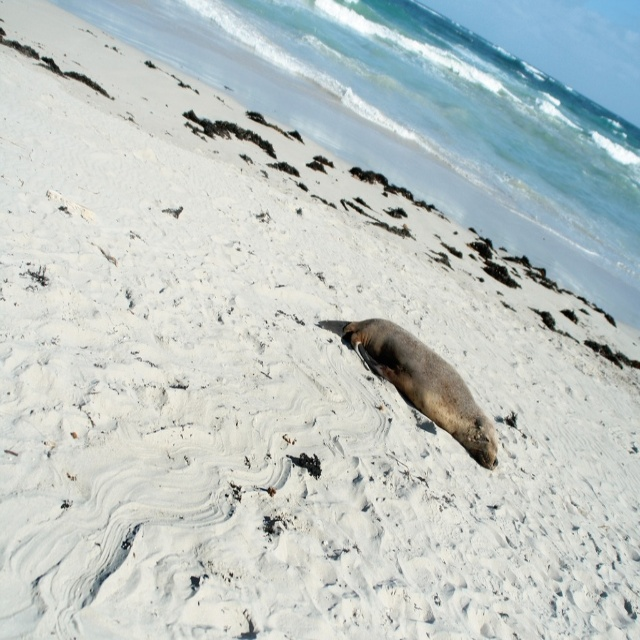Sea lion: (344, 315, 498, 474)
